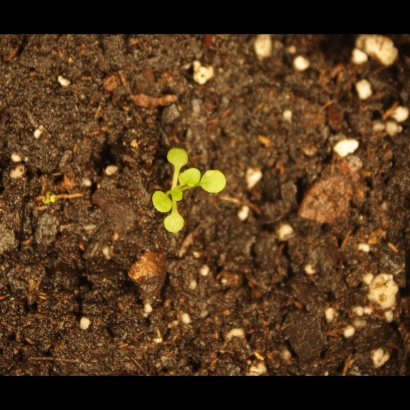leaf: (201, 168, 235, 199), (162, 209, 192, 237), (163, 143, 191, 170), (148, 190, 173, 216), (178, 167, 201, 190), (169, 184, 192, 207)
